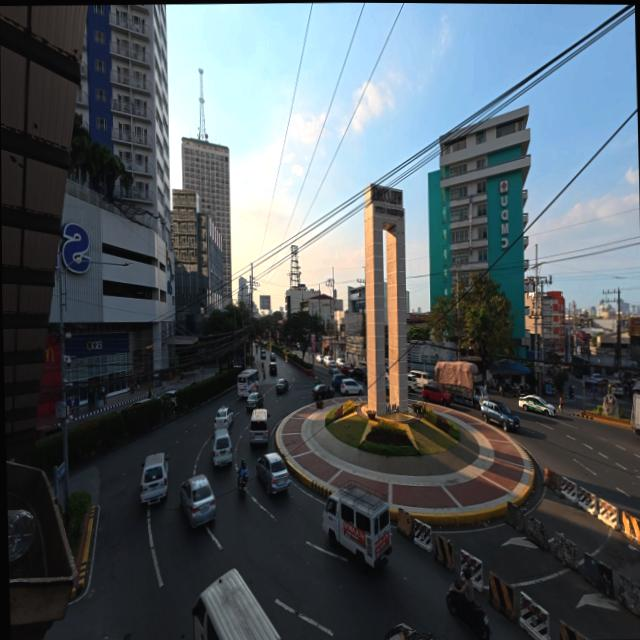bus: (237, 369, 258, 398)
car: (179, 475, 215, 526), (255, 452, 288, 495), (480, 401, 518, 430), (383, 624, 435, 639), (518, 395, 555, 416), (422, 384, 452, 405), (213, 407, 232, 431), (35, 424, 61, 440), (340, 379, 362, 396), (245, 390, 263, 410), (312, 384, 334, 400), (160, 390, 176, 407), (330, 373, 344, 390), (276, 379, 288, 393), (352, 368, 364, 381), (340, 365, 352, 377), (591, 372, 604, 383), (323, 355, 334, 366), (328, 362, 337, 374), (384, 373, 389, 394), (335, 357, 344, 368), (269, 362, 276, 375), (260, 347, 266, 359), (315, 355, 322, 363), (269, 352, 275, 361), (297, 343, 300, 349)
motorcycle: (445, 580, 490, 639), (236, 474, 247, 498), (568, 386, 573, 399), (262, 370, 264, 380)
trucks: (434, 361, 487, 410), (630, 394, 639, 436)
vans: (191, 569, 280, 639), (322, 481, 390, 568), (140, 452, 168, 504), (212, 426, 233, 466), (248, 409, 268, 445), (409, 370, 432, 388), (608, 381, 622, 397), (407, 373, 417, 392)
